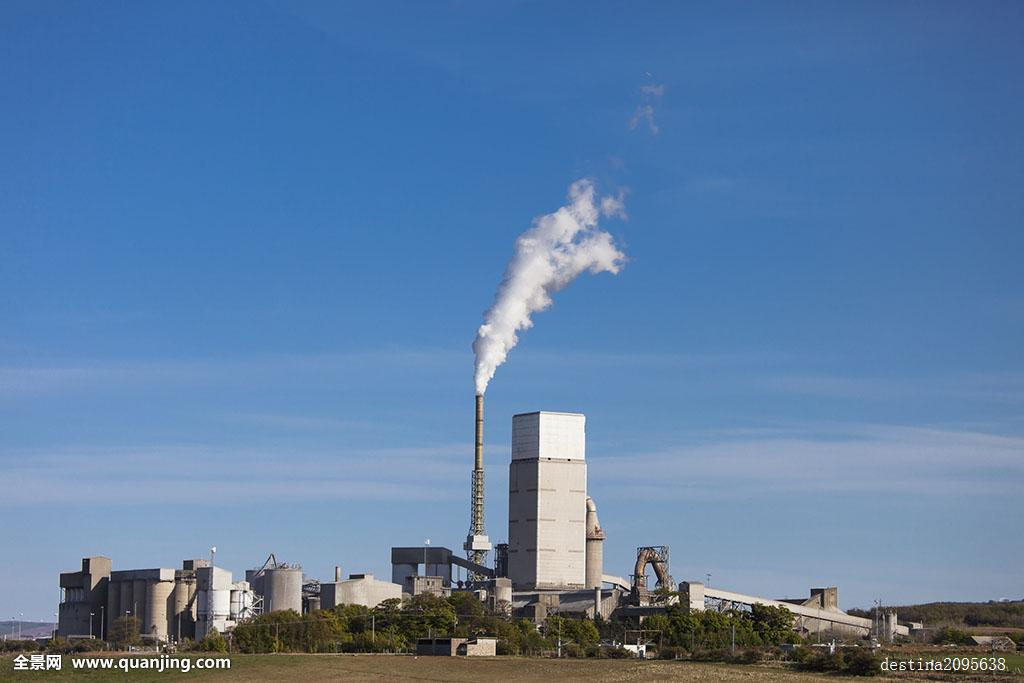dust: (456, 179, 625, 410)
